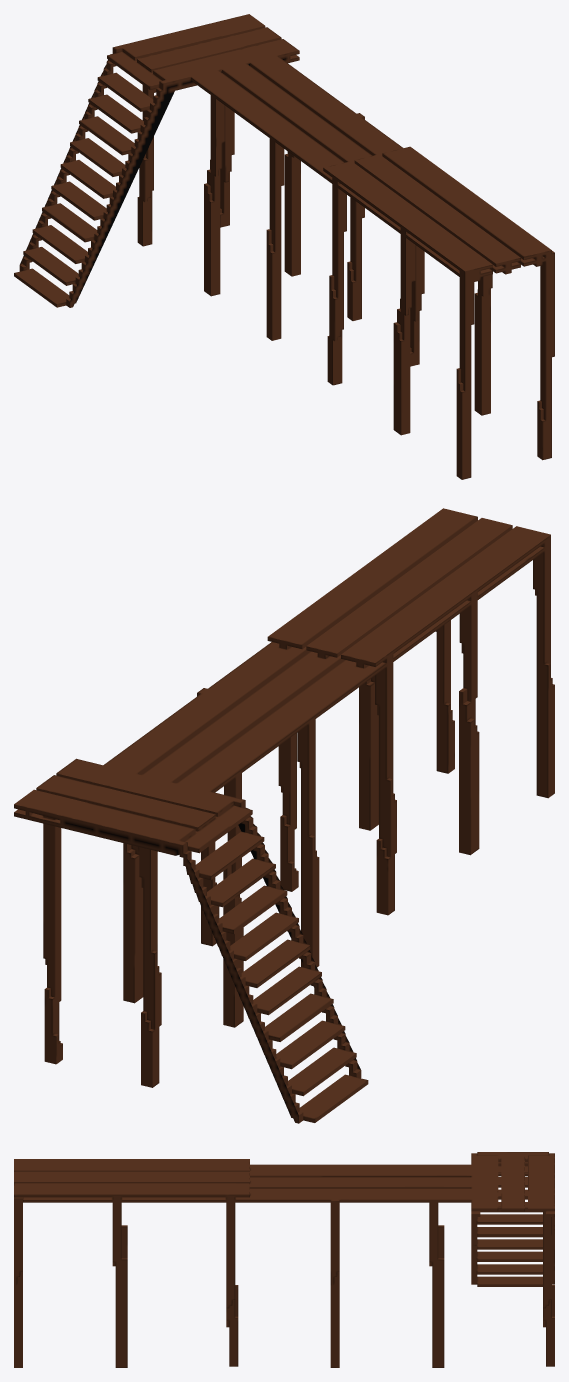
File: Acesso-Burihouse.fbx
3 views of the same model, one above another, from view 1: azimuth 30°, elevation 25°; view 2: azimuth 150°, elevation 25°; view 3: azimuth 270°, elevation 25° (orthographic). The views are drawn at different scales.
Parts seen in each view (by area): view 1: Acesso BuriHouse; view 2: Acesso BuriHouse; view 3: Acesso BuriHouse.
Boxes of the visible parts, x1=… form: Acesso BuriHouse: x1=14, y1=14, x2=554, y2=479; Acesso BuriHouse: x1=14, y1=508, x2=554, y2=1123; Acesso BuriHouse: x1=14, y1=1152, x2=554, y2=1367.
Bounding box in the file's own units: 770 × 640 × 1810.
